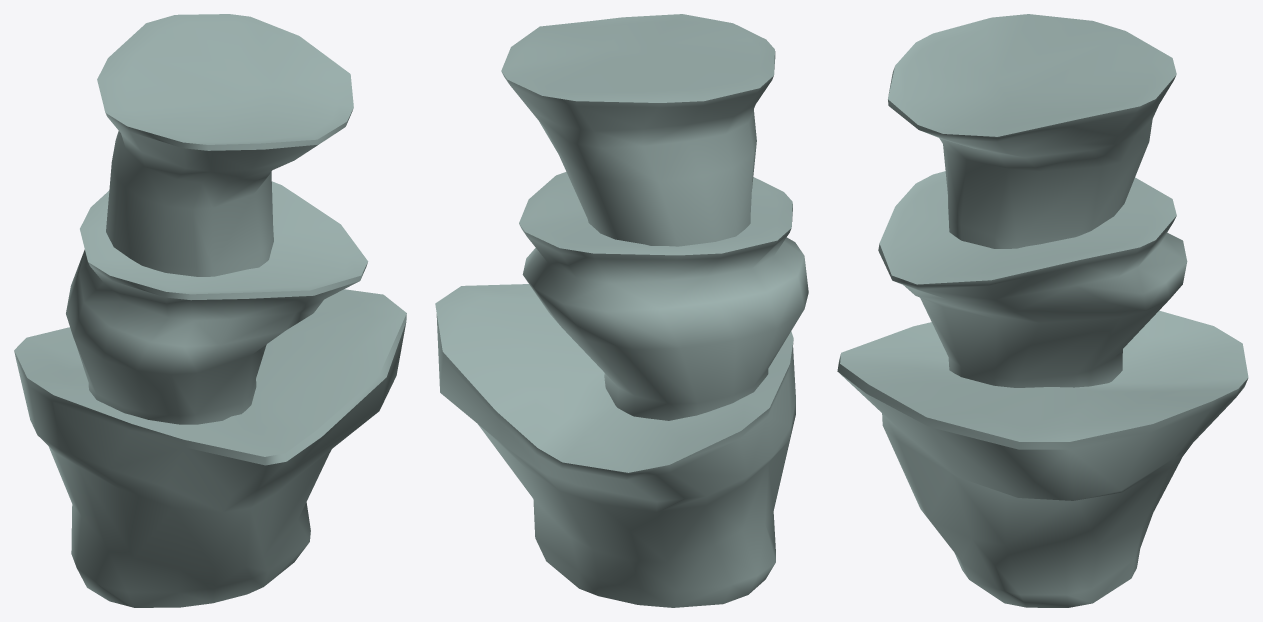
File: SM_StoneShroom_large.fbx
3 views of the same model, side by side, from view 1: azimuth 30°, elevation 25°; view 2: azimuth 150°, elevation 25°; view 3: azimuth 270°, elevation 25° (orthographic). The views are drawn at different scales.
Visible parts, largest first — view 1: SM_StoneShroom_Large_Placeholder_1, SM_StoneShroom_Large_Placeholder_3, SM_StoneShroom_Large_Placeholder_2; view 2: SM_StoneShroom_Large_Placeholder_1, SM_StoneShroom_Large_Placeholder_3, SM_StoneShroom_Large_Placeholder_2; view 3: SM_StoneShroom_Large_Placeholder_1, SM_StoneShroom_Large_Placeholder_3, SM_StoneShroom_Large_Placeholder_2.
Boxes of the visible parts, box(x1,y1,x2,y2) form: SM_StoneShroom_Large_Placeholder_1: box(14, 289, 406, 607); SM_StoneShroom_Large_Placeholder_3: box(97, 14, 353, 276); SM_StoneShroom_Large_Placeholder_2: box(66, 181, 367, 424); SM_StoneShroom_Large_Placeholder_1: box(435, 284, 795, 607); SM_StoneShroom_Large_Placeholder_3: box(501, 14, 775, 246); SM_StoneShroom_Large_Placeholder_2: box(519, 172, 808, 420); SM_StoneShroom_Large_Placeholder_1: box(837, 310, 1248, 607); SM_StoneShroom_Large_Placeholder_3: box(888, 14, 1176, 248); SM_StoneShroom_Large_Placeholder_2: box(878, 171, 1187, 387).
Bounding box in the file's own units: 3259 × 4747 × 3418.
